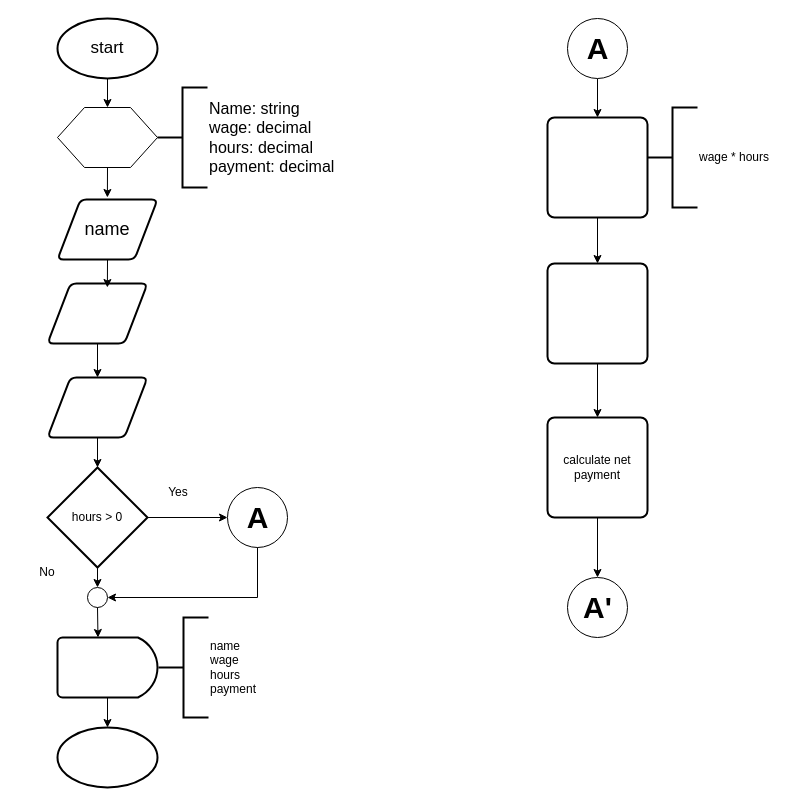
Image size: 786x805. Some labels were removed from this diagram. The shapes that lost their labels are listed below. From the top down, each one's centre as x and y in pixels, then its label:
the point at 597,167: calculate gross payment
the point at 97,313: wage
the point at 597,313: calculate deductions
the point at 97,407: hours
the point at 107,757: stop
